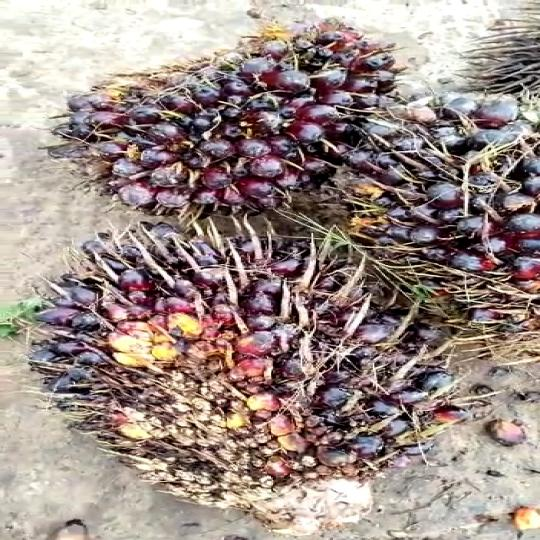kurang masak: (50, 235, 436, 485), (65, 32, 381, 218), (344, 84, 540, 310)
